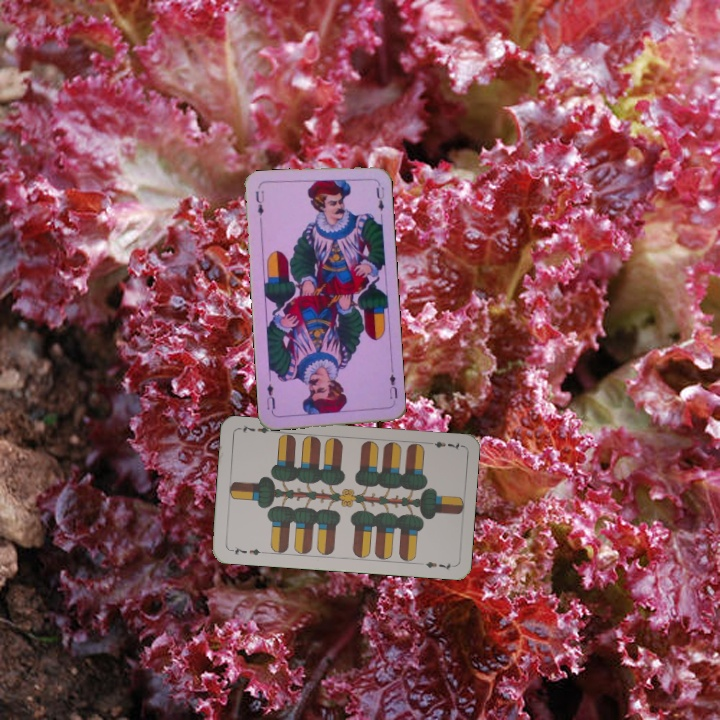E7: (226, 543, 267, 558), (423, 438, 464, 452)
EU: (385, 366, 400, 401), (252, 186, 267, 218)
